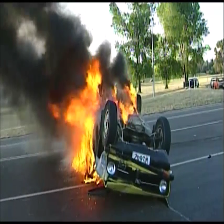fire_h: (62, 57, 101, 174), (119, 82, 139, 123)
fire_l: (104, 82, 117, 105), (83, 171, 101, 184), (50, 102, 60, 119)
